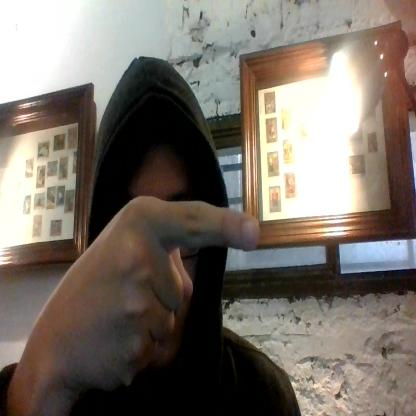left: (52, 187, 259, 395)
